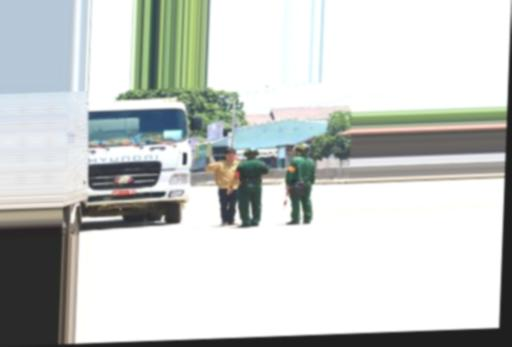License_Plate: (111, 188, 138, 197)
